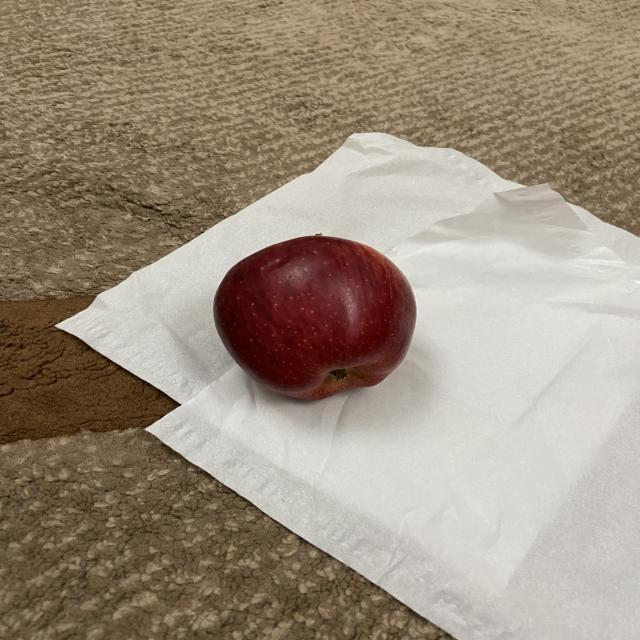apple: (212, 227, 422, 405)
